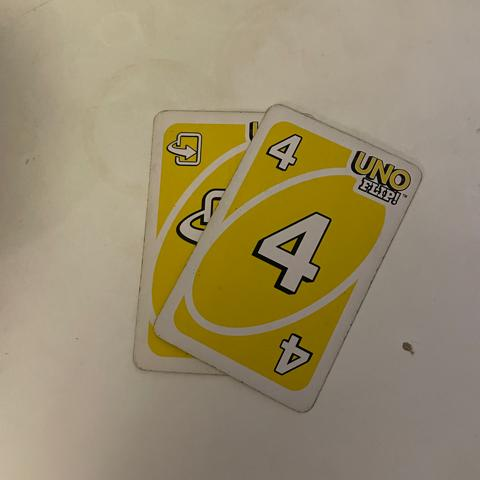lyellow-4: (265, 119, 308, 184)
lyellowflip-20: (163, 117, 214, 178)
